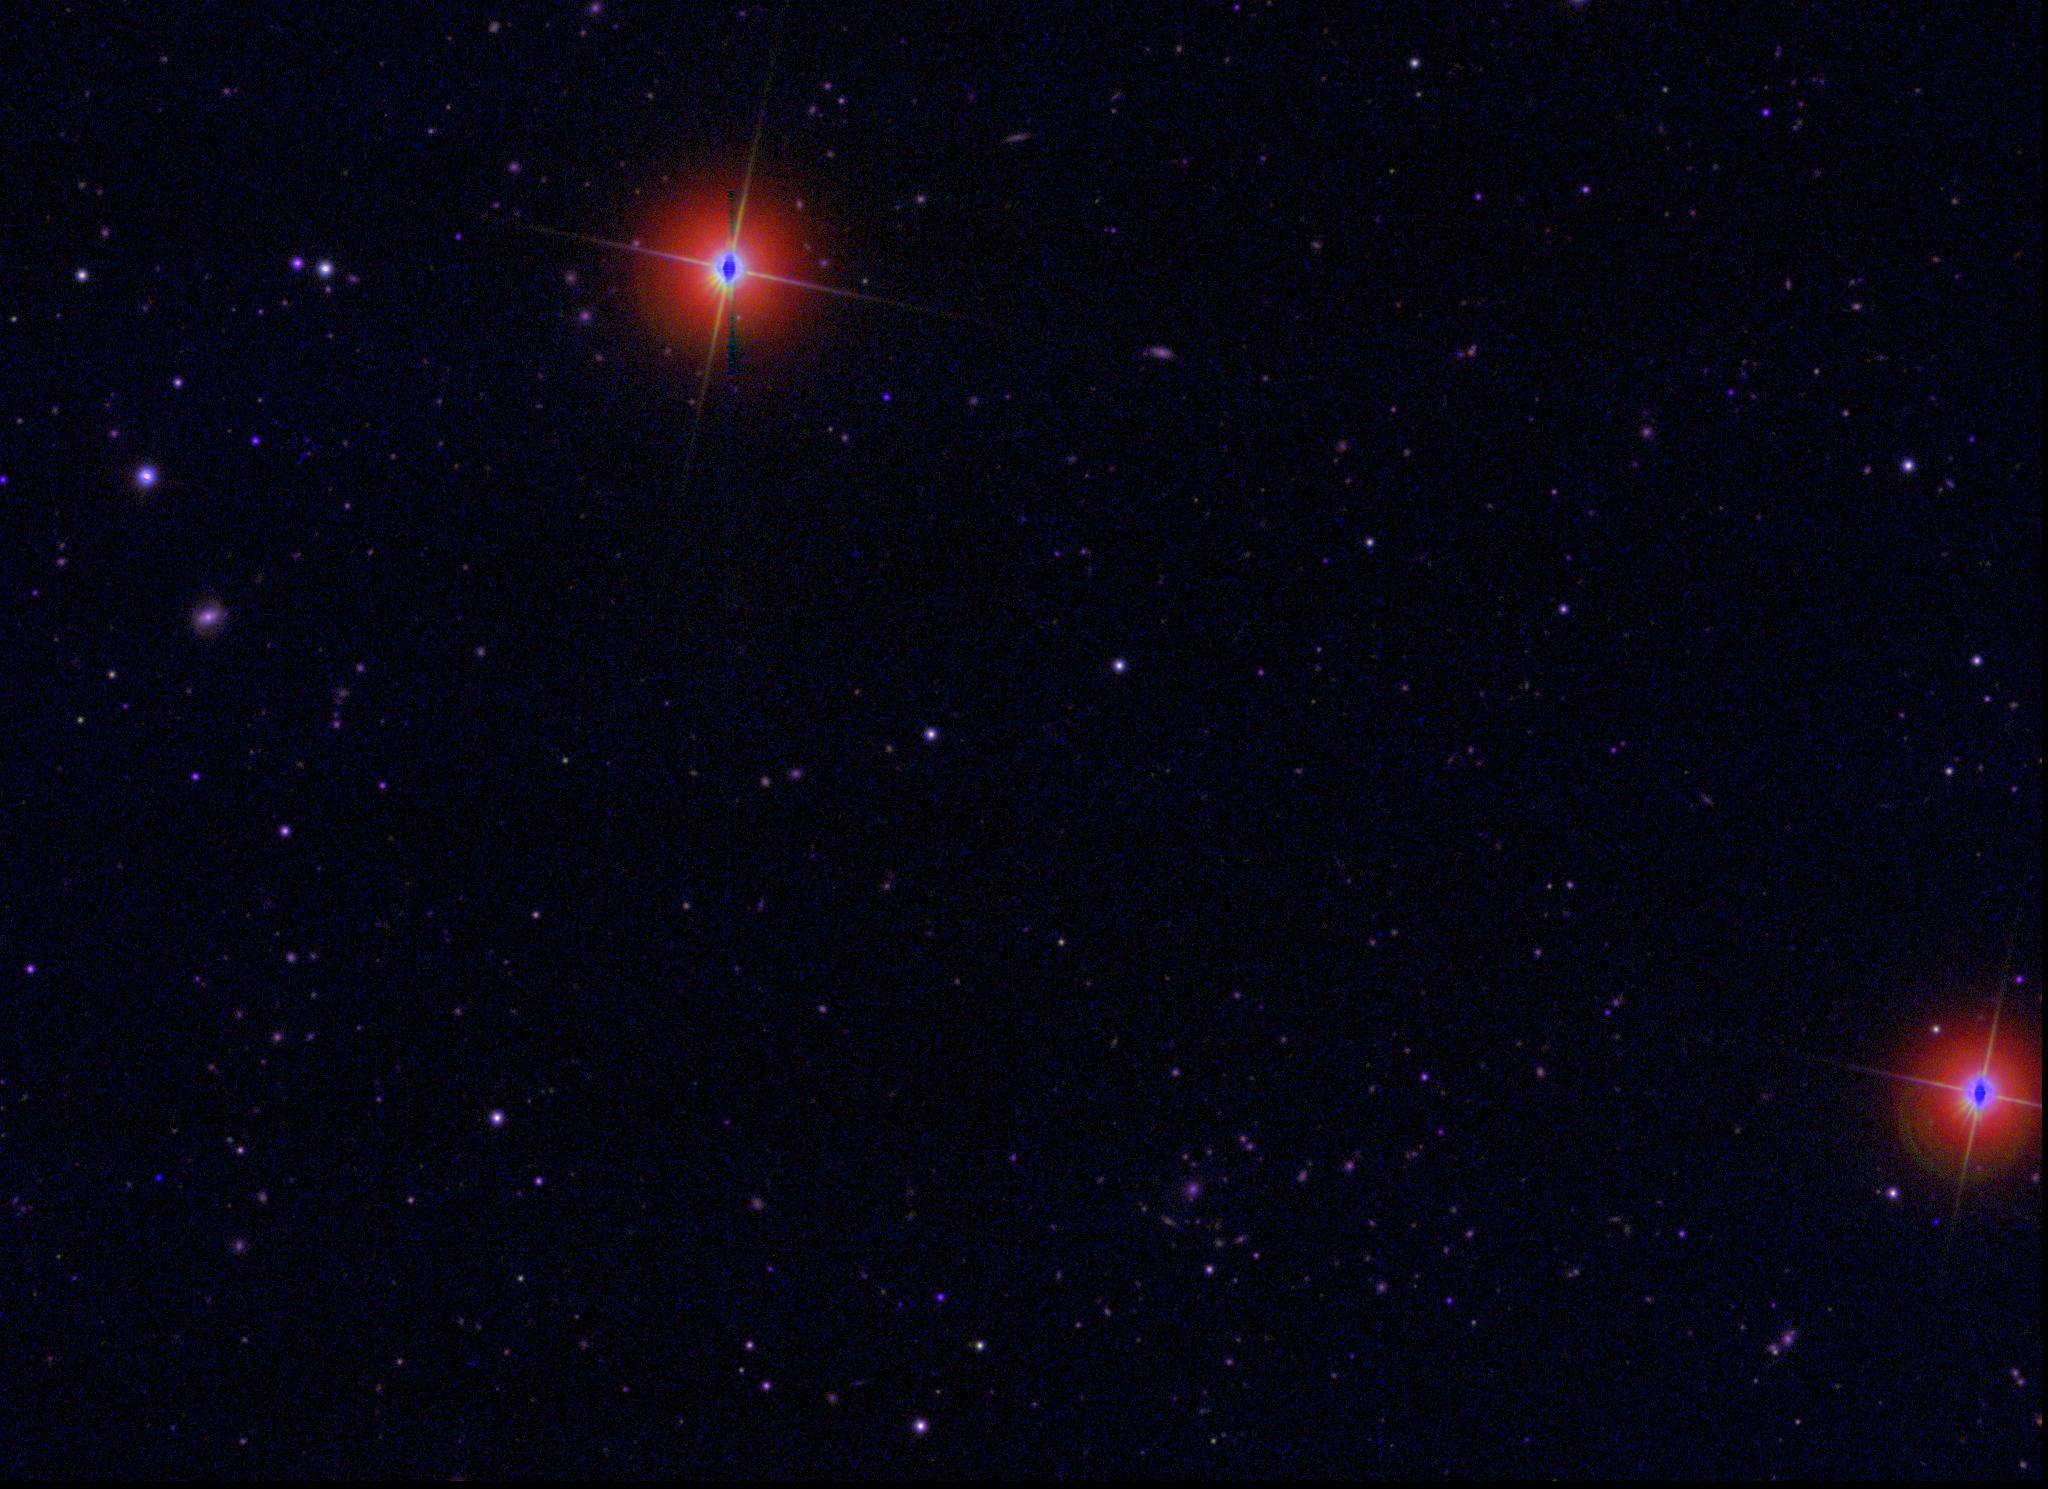L: (149, 1168, 164, 1182)
